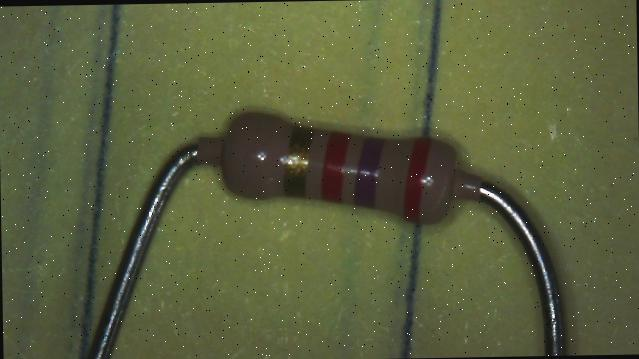gold: (284, 125, 314, 195)
red: (403, 138, 433, 221), (320, 131, 353, 202)
resistor: (194, 79, 475, 251)
violet: (354, 136, 384, 206)
